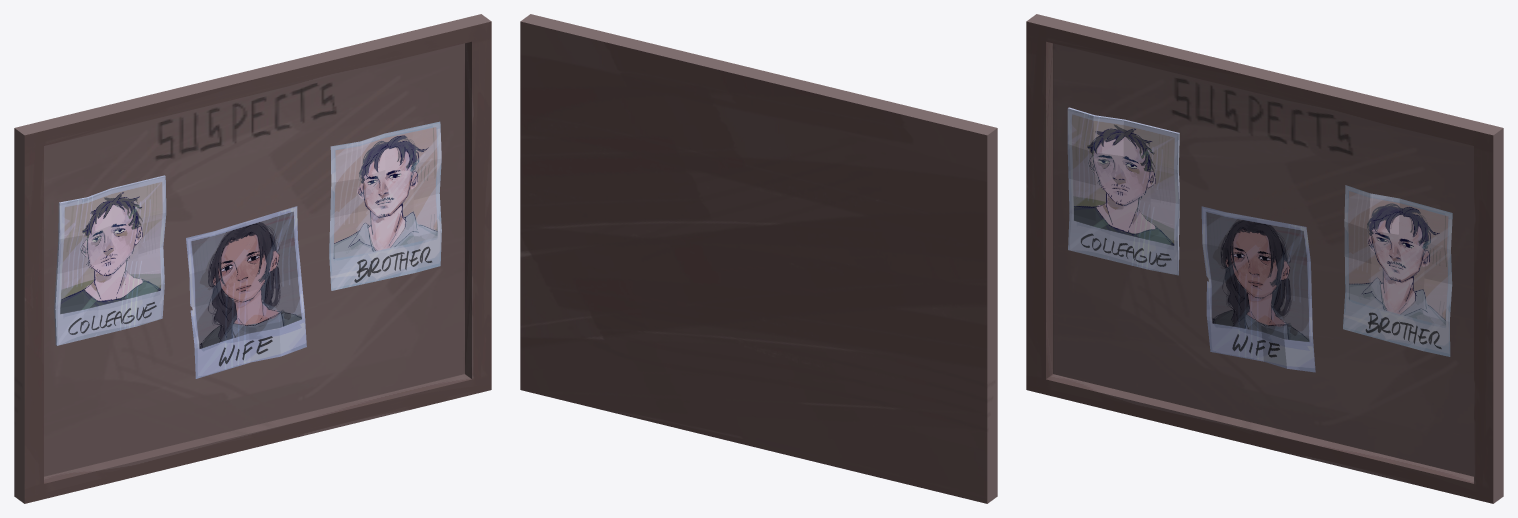
File: boardW_Pictures.fbx
The picture shows the model from 3 angles, left to right: view 1: azimuth 30°, elevation 25°; view 2: azimuth 150°, elevation 25°; view 3: azimuth 330°, elevation 25°; orthographic projection.
Visible parts, largest first — view 1: Cube.002, Plane.008, Plane.007, Plane.006; view 2: Cube.002; view 3: Cube.002, Plane.006, Plane.008, Plane.007.
Part boxes in pixels (<box>): Cube.002: <box>14,14,491,503</box>; Plane.008: <box>329,121,441,290</box>; Plane.007: <box>186,206,306,378</box>; Plane.006: <box>54,175,166,345</box>; Cube.002: <box>520,14,997,503</box>; Cube.002: <box>1026,14,1503,503</box>; Plane.006: <box>1067,107,1179,275</box>; Plane.008: <box>1343,185,1452,356</box>; Plane.007: <box>1201,206,1315,372</box>.
Bounding box in the file's own units: 718 × 541 × 27.25.
Materials: 4 (4 with a texture image).
